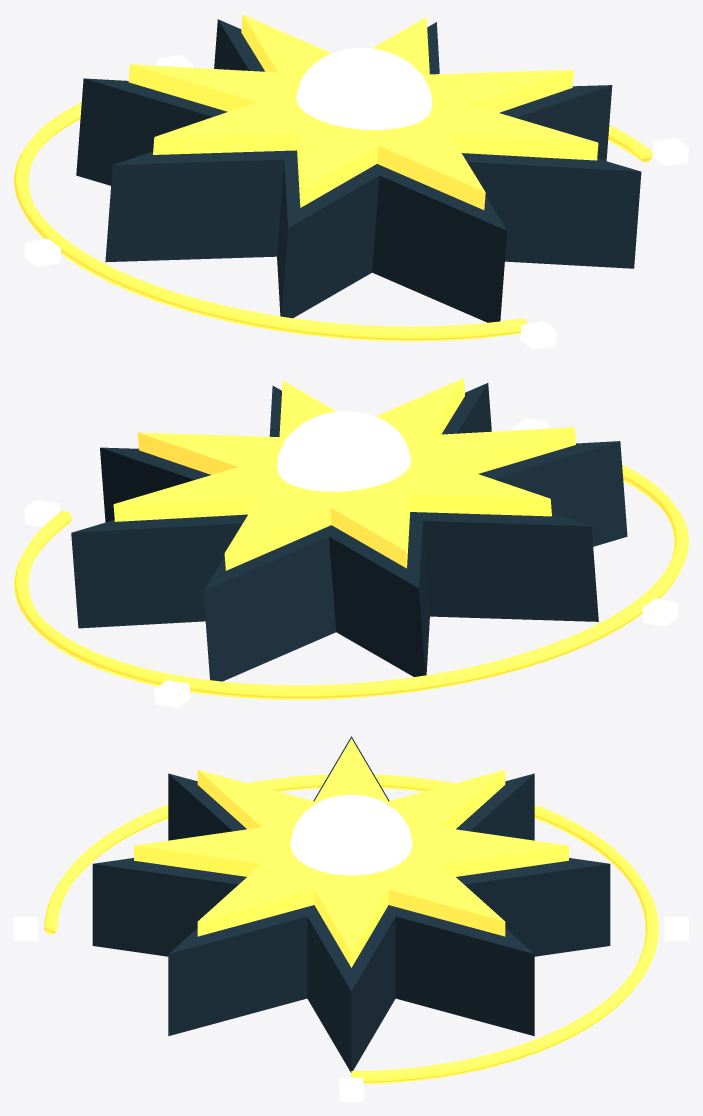
The model's file is blast-pickup.glb.
3 renders of one model, top to bottom at view 1: azimuth 30°, elevation 25°; view 2: azimuth 150°, elevation 25°; view 3: azimuth 270°, elevation 25°, orthographic. The views are drawn at different scales.
Parts seen in each view (by area): view 1: burst-emblem, pickup-hover.001-PL-amber, pickup-hover.001-PL-white; view 2: burst-emblem, pickup-hover.001-PL-amber, pickup-hover.001-PL-white; view 3: burst-emblem, pickup-hover.001-PL-amber, pickup-hover.001-PL-white.
Part boxes in pixels (x1,y1,x2,y2): burst-emblem: (76, 19, 641, 322); pickup-hover.001-PL-amber: (14, 15, 652, 341); pickup-hover.001-PL-white: (24, 47, 688, 349); burst-emblem: (71, 383, 627, 681); pickup-hover.001-PL-amber: (14, 378, 688, 699); pickup-hover.001-PL-white: (24, 411, 678, 707); burst-emblem: (92, 736, 610, 1072); pickup-hover.001-PL-amber: (44, 738, 658, 1083); pickup-hover.001-PL-white: (14, 794, 688, 1101).
Size of the model in its own units: 3.85 by 1.05 by 3.86.
